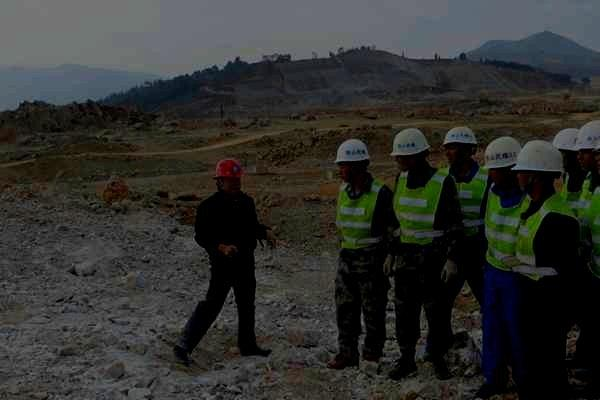helmet: (511, 140, 564, 194), (480, 136, 523, 189), (390, 127, 431, 173), (333, 139, 371, 183), (442, 125, 478, 165), (572, 119, 600, 169), (212, 157, 245, 196), (552, 127, 579, 170)
